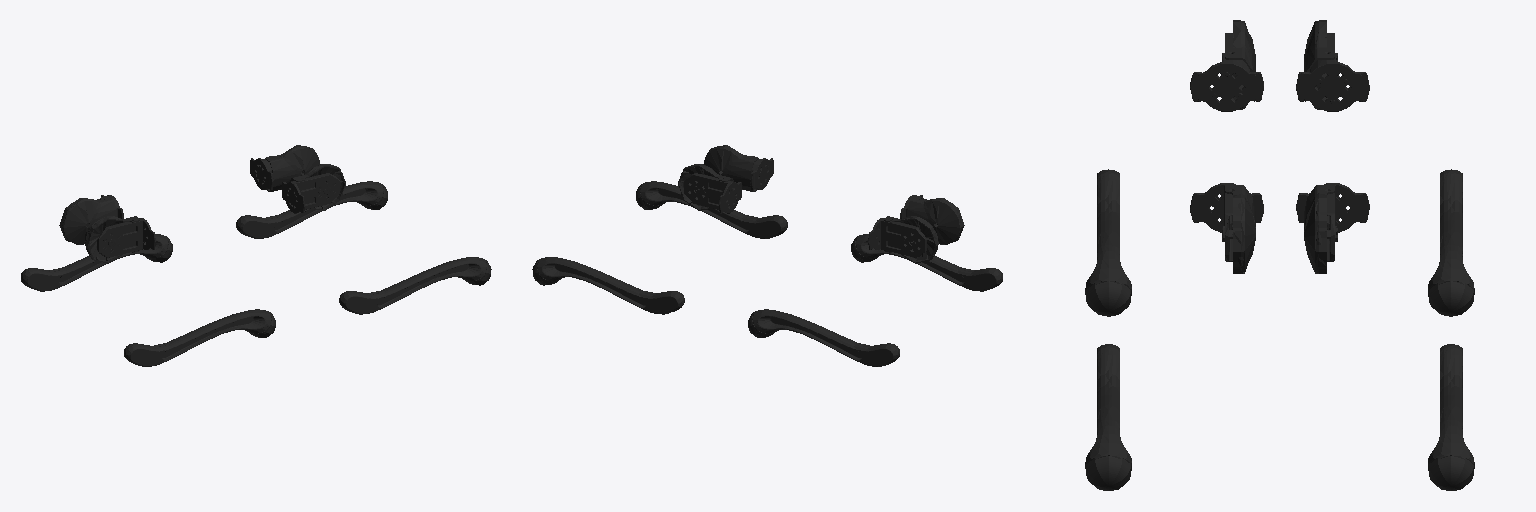
URDF robot description (cyberdog2):
<?xml version="1.0"?>
<robot name="cyberdog2">
  <link name="body">
    <visual>
      <origin xyz="0 0 0" rpy="0 0 0"/>
      <geometry>
        <mesh filename="../meshes/body.dae" scale="1 1 1"/>
      </geometry>
    </visual>
    <collision>
      <origin xyz="0 0 0" rpy="0 0 0"/>
      <geometry>
        <box size="0.236 0.190 0.109"/>
      </geometry>
    </collision>
    <inertial>
      <origin xyz="0.0273 -0.000242 0.0143" rpy="0 0 0"/>
      <mass value="4.03"/>
      <inertia ixx="0.0185" ixy="-0.000173" ixz="-0.0102" iyy="0.0517" iyz="-0.0000283" izz="0.0483"/>
    </inertial>
  </link>

  <joint name="head_joint" type="fixed">
    <parent link="body"/>
    <child link="head"/>
    <origin xyz="0 0 0" rpy="0 0 0"/>
  </joint>
  <link name="head">
    <collision>
      <origin xyz="0.256 0 0.120" rpy="0 0 0"/>
      <geometry>
        <box size="0.076 0.060 0.040"/>
      </geometry>
    </collision>
    <collision>
      <origin xyz="0.225 0 0.150" rpy="0 0 0"/>
      <geometry>
        <box size="0.020 0.080 0.100"/>
      </geometry>
    </collision>
    <inertial>
      <origin xyz="0 0 0" rpy="0 0 0"/>
      <mass value="0.001"/>
      <inertia ixx="0.0001" ixy="0" ixz="0" iyy="0.0001" iyz="0" izz="0.0001"/>
    </inertial>
  </link>

  <joint name="FR_abad_joint" type="revolute">
    <parent link="body"/>
    <child link="FR_abad"/>
    <origin xyz="0.164 -0.042 0" rpy="0 0 0"/>
    <axis xyz="1 0 0"/>
    <dynamics damping="0.01" friction="0.1"/>
    <limit effort="12.0001" velocity="30.9971" lower="-0.6806784082777885" upper="0.6806784082777885"/>
  </joint>
  <link name="FR_abad">
    <visual>
      <origin xyz="0 0 0" rpy="3.141592653589793 0 0"/>
      <geometry>
        <mesh filename="../meshes/abad.dae" scale="1 1 1"/>
      </geometry>
    </visual>
    <collision>
      <origin xyz="0 0 0" rpy="1.5707963267948966 0 0"/>
      <geometry>
        <cylinder length="0.035" radius="0.039"/>
      </geometry>
    </collision>
    <collision>
      <origin xyz="0 -0.059 0" rpy="1.5707963267948966 0 0"/>
      <geometry>
        <cylinder length="0.035" radius="0.039"/>
      </geometry>
    </collision>
    <inertial>
      <origin xyz="-0.00392 -0.015 -0.000306" rpy="0 0 0"/>
      <mass value="0.354"/>
      <inertia ixx="0.00019" ixy="0.000027" ixz="-0.000000344" iyy="0.000276" iyz="-0.00000195" izz="0.000233"/>
    </inertial>
  </link>
  <joint name="FR_hip_joint" type="revolute">
    <parent link="FR_abad"/>
    <child link="FR_hip"/>
    <origin xyz="0 -0.094 0" rpy="0 0 0"/>
    <axis xyz="0 1 0"/>
    <dynamics damping="0.01" friction="0.1"/>
    <limit effort="12.0001" velocity="30.9971" lower="-1.3264502315156905" upper="2.792526803190927"/>
  </joint>
  <link name="FR_hip">
    <visual>
      <origin xyz="0 0 0" rpy="0 0 0"/>
      <geometry>
        <mesh filename="../meshes/hip_mirror.dae" scale="1 1 1"/>
      </geometry>
    </visual>
    <collision>
      <origin xyz="0 0 -0.06" rpy="0 1.5707963267948966 0"/>
      <geometry>
        <box size="0.12 0.025 0.034"/>
      </geometry>
    </collision>
    <inertial>
      <origin xyz="-0.00212 0.0212 -0.0184" rpy="0 0 0"/>
      <mass value="0.482"/>
      <inertia ixx="0.00101" ixy="-0.0000223" ixz="-0.0000385" iyy="0.000983" iyz="-0.000199" izz="0.000347"/>
    </inertial>
  </link>
  <joint name="FR_knee_joint" type="revolute">
    <parent link="FR_hip"/>
    <child link="FR_knee"/>
    <origin xyz="0 0 -0.12" rpy="0 0 0"/>
    <axis xyz="0 1 0"/>
    <dynamics damping="0.01" friction="0.1"/>
    <limit effort="12.0001" velocity="30.9971" lower="-2.5307274153917776" upper="-0.5235987755982988"/>
  </joint>
  <link name="FR_knee">
    <visual>
      <origin xyz="0 0 0" rpy="0 0 0"/>
      <geometry>
        <mesh filename="../meshes/knee.dae" scale="1 1 1"/>
      </geometry>
    </visual>
    <collision>
      <origin xyz="0 0 -0.091705" rpy="0 3.141592653589793 0"/>
      <geometry>
        <box size="0.016 0.016 0.18341"/>
      </geometry>
    </collision>
    <collision>
      <origin xyz="-0.01 0 -0.007" rpy="0 3.141592653589793 0"/>
      <geometry>
        <sphere radius="0.016"/>
      </geometry>
    </collision>
    <inertial>
      <origin xyz="0.0006 -0.0000472 -0.0893" rpy="0 0 0"/>
      <mass value="0.116"/>
      <inertia ixx="0.000668" ixy="0.000000003" ixz="0.0000237" iyy="0.000674" iyz="0.000000603" izz="0.0000154"/>
    </inertial>
  </link>
  <joint name="FR_foot_fixed" type="fixed">
    <parent link="FR_knee"/>
    <child link="FR_foot"/>
    <origin xyz="0.0055 0 -0.17391" rpy="0 0 0"/>
  </joint>
  <link name="FR_foot">
    <visual>
      <origin xyz="0 0 0" rpy="0 0 0"/>
      <geometry>
        <sphere radius="0.009"/>
      </geometry>
    </visual>
    <collision>
      <origin xyz="0 0 0" rpy="0 0 0"/>
      <geometry>
        <sphere radius="0.019"/>
      </geometry>
    </collision>
    <inertial>
      <origin xyz="0 0 0" rpy="0 0 0"/>
      <mass value="0.001"/>
      <inertia ixx="0.000001" ixy="0" ixz="0" iyy="0.000001" iyz="0" izz="0.000001"/>
    </inertial>
  </link>

  <joint name="FL_abad_joint" type="revolute">
    <parent link="body"/>
    <child link="FL_abad"/>
    <origin xyz="0.164 0.042 0" rpy="0 0 0"/>
    <axis xyz="1 0 0"/>
    <dynamics damping="0.01" friction="0.1"/>
    <limit effort="12.0001" velocity="30.9971" lower="-0.6806784082777885" upper="0.6806784082777885"/>
  </joint>
  <link name="FL_abad">
    <visual>
      <origin xyz="0 0 0" rpy="0 0 0"/>
      <geometry>
        <mesh filename="../meshes/abad.dae" scale="1 1 1"/>
      </geometry>
    </visual>
    <collision>
      <origin xyz="0 0 0" rpy="1.5707963267948966 0 0"/>
      <geometry>
        <cylinder length="0.035" radius="0.039"/>
      </geometry>
    </collision>
    <collision>
      <origin xyz="0 0.059 0" rpy="1.5707963267948966 0 0"/>
      <geometry>
        <cylinder length="0.035" radius="0.039"/>
      </geometry>
    </collision>
    <inertial>
      <origin xyz="-0.00392 0.015 -0.000306" rpy="0 0 0"/>
      <mass value="0.354"/>
      <inertia ixx="0.00019" ixy="-0.000027" ixz="-0.000000344" iyy="0.000276" iyz="0.00000195" izz="0.000233"/>
    </inertial>
  </link>
  <joint name="FL_hip_joint" type="revolute">
    <parent link="FL_abad"/>
    <child link="FL_hip"/>
    <origin xyz="0 0.094 0" rpy="0 0 0"/>
    <axis xyz="0 1 0"/>
    <dynamics damping="0.01" friction="0.1"/>
    <limit effort="12.0001" velocity="30.9971" lower="-1.3264502315156905" upper="2.792526803190927"/>
  </joint>
  <link name="FL_hip">
    <visual>
      <origin xyz="0 0 0" rpy="0 0 0"/>
      <geometry>
        <mesh filename="../meshes/hip.dae" scale="1 1 1"/>
      </geometry>
    </visual>
    <collision>
      <origin xyz="0 0 -0.06" rpy="0 1.5707963267948966 0"/>
      <geometry>
        <box size="0.12 0.025 0.034"/>
      </geometry>
    </collision>
    <inertial>
      <origin xyz="-0.00212 -0.0212 -0.0184" rpy="0 0 0"/>
      <mass value="0.482"/>
      <inertia ixx="0.00101" ixy="0.0000223" ixz="-0.0000385" iyy="0.000983" iyz="0.000199" izz="0.000347"/>
    </inertial>
  </link>
  <joint name="FL_knee_joint" type="revolute">
    <parent link="FL_hip"/>
    <child link="FL_knee"/>
    <origin xyz="0 0 -0.12" rpy="0 0 0"/>
    <axis xyz="0 1 0"/>
    <dynamics damping="0.01" friction="0.1"/>
    <limit effort="12.0001" velocity="30.9971" lower="-2.5307274153917776" upper="-0.5235987755982988"/>
  </joint>
  <link name="FL_knee">
    <visual>
      <origin xyz="0 0 0" rpy="0 0 0"/>
      <geometry>
        <mesh filename="../meshes/knee.dae" scale="1 1 1"/>
      </geometry>
    </visual>
    <collision>
      <origin xyz="0 0 -0.091705" rpy="0 3.141592653589793 0"/>
      <geometry>
        <box size="0.016 0.016 0.18341"/>
      </geometry>
    </collision>
    <collision>
      <origin xyz="-0.01 0 -0.007" rpy="0 3.141592653589793 0"/>
      <geometry>
        <sphere radius="0.016"/>
      </geometry>
    </collision>
    <inertial>
      <origin xyz="0.0006 -0.0000472 -0.0893" rpy="0 0 0"/>
      <mass value="0.116"/>
      <inertia ixx="0.000668" ixy="0.000000003" ixz="0.0000237" iyy="0.000674" iyz="0.000000603" izz="0.0000154"/>
    </inertial>
  </link>
  <joint name="FL_foot_fixed" type="fixed">
    <parent link="FL_knee"/>
    <child link="FL_foot"/>
    <origin xyz="0.0055 0 -0.17391" rpy="0 0 0"/>
  </joint>
  <link name="FL_foot">
    <visual>
      <origin xyz="0 0 0" rpy="0 0 0"/>
      <geometry>
        <sphere radius="0.009"/>
      </geometry>
    </visual>
    <collision>
      <origin xyz="0 0 0" rpy="0 0 0"/>
      <geometry>
        <sphere radius="0.019"/>
      </geometry>
    </collision>
    <inertial>
      <origin xyz="0 0 0" rpy="0 0 0"/>
      <mass value="0.001"/>
      <inertia ixx="0.000001" ixy="0" ixz="0" iyy="0.000001" iyz="0" izz="0.000001"/>
    </inertial>
  </link>

  <joint name="RR_abad_joint" type="revolute">
    <parent link="body"/>
    <child link="RR_abad"/>
    <origin xyz="-0.164 -0.042 0" rpy="0 0 0"/>
    <axis xyz="1 0 0"/>
    <dynamics damping="0.01" friction="0.1"/>
    <limit effort="12.0001" velocity="30.9971" lower="-0.6806784082777885" upper="0.6806784082777885"/>
  </joint>
  <link name="RR_abad">
    <visual>
      <origin xyz="0 0 0" rpy="3.141592653589793 3.141592653589793 0"/>
      <geometry>
        <mesh filename="../meshes/abad.dae" scale="1 1 1"/>
      </geometry>
    </visual>
    <collision>
      <origin xyz="0 0 0" rpy="1.5707963267948966 0 0"/>
      <geometry>
        <cylinder length="0.035" radius="0.039"/>
      </geometry>
    </collision>
    <collision>
      <origin xyz="0 -0.059 0" rpy="1.5707963267948966 0 0"/>
      <geometry>
        <cylinder length="0.035" radius="0.039"/>
      </geometry>
    </collision>
    <inertial>
      <origin xyz="0.00392 -0.015 -0.000306" rpy="0 0 0"/>
      <mass value="0.354"/>
      <inertia ixx="0.00019" ixy="-0.000027" ixz="0.000000344" iyy="0.000276" iyz="-0.00000195" izz="0.000233"/>
    </inertial>
  </link>
  <joint name="RR_hip_joint" type="revolute">
    <parent link="RR_abad"/>
    <child link="RR_hip"/>
    <origin xyz="0 -0.094 0" rpy="0 0 0"/>
    <axis xyz="0 1 0"/>
    <dynamics damping="0.01" friction="0.1"/>
    <limit effort="12.0001" velocity="30.9971" lower="-0.9773843811168246" upper="3.141592653589793"/>
  </joint>
  <link name="RR_hip">
    <visual>
      <origin xyz="0 0 0" rpy="0 0 0"/>
      <geometry>
        <mesh filename="../meshes/hip_mirror.dae" scale="1 1 1"/>
      </geometry>
    </visual>
    <collision>
      <origin xyz="0 0 -0.06" rpy="0 1.5707963267948966 0"/>
      <geometry>
        <box size="0.12 0.025 0.034"/>
      </geometry>
    </collision>
    <inertial>
      <origin xyz="-0.00212 0.0212 -0.0184" rpy="0 0 0"/>
      <mass value="0.482"/>
      <inertia ixx="0.00101" ixy="-0.0000223" ixz="-0.0000385" iyy="0.000983" iyz="-0.000199" izz="0.000347"/>
    </inertial>
  </link>
  <joint name="RR_knee_joint" type="revolute">
    <parent link="RR_hip"/>
    <child link="RR_knee"/>
    <origin xyz="0 0 -0.12" rpy="0 0 0"/>
    <axis xyz="0 1 0"/>
    <dynamics damping="0.01" friction="0.1"/>
    <limit effort="12.0001" velocity="30.9971" lower="-2.5307274153917776" upper="-0.5235987755982988"/>
  </joint>
  <link name="RR_knee">
    <visual>
      <origin xyz="0 0 0" rpy="0 0 0"/>
      <geometry>
        <mesh filename="../meshes/knee.dae" scale="1 1 1"/>
      </geometry>
    </visual>
    <collision>
      <origin xyz="0 0 -0.091705" rpy="0 3.141592653589793 0"/>
      <geometry>
        <box size="0.016 0.016 0.18341"/>
      </geometry>
    </collision>
    <collision>
      <origin xyz="-0.01 0 -0.007" rpy="0 3.141592653589793 0"/>
      <geometry>
        <sphere radius="0.016"/>
      </geometry>
    </collision>
    <inertial>
      <origin xyz="0.0006 -0.0000472 -0.0893" rpy="0 0 0"/>
      <mass value="0.116"/>
      <inertia ixx="0.000668" ixy="0.000000003" ixz="0.0000237" iyy="0.000674" iyz="0.000000603" izz="0.0000154"/>
    </inertial>
  </link>
  <joint name="RR_foot_fixed" type="fixed">
    <parent link="RR_knee"/>
    <child link="RR_foot"/>
    <origin xyz="0.0055 0 -0.17391" rpy="0 0 0"/>
  </joint>
  <link name="RR_foot">
    <visual>
      <origin xyz="0 0 0" rpy="0 0 0"/>
      <geometry>
        <sphere radius="0.009"/>
      </geometry>
    </visual>
    <collision>
      <origin xyz="0 0 0" rpy="0 0 0"/>
      <geometry>
        <sphere radius="0.019"/>
      </geometry>
    </collision>
    <inertial>
      <origin xyz="0 0 0" rpy="0 0 0"/>
      <mass value="0.001"/>
      <inertia ixx="0.000001" ixy="0" ixz="0" iyy="0.000001" iyz="0" izz="0.000001"/>
    </inertial>
  </link>

  <joint name="RL_abad_joint" type="revolute">
    <parent link="body"/>
    <child link="RL_abad"/>
    <origin xyz="-0.164 0.042 0" rpy="0 0 0"/>
    <axis xyz="1 0 0"/>
    <dynamics damping="0.01" friction="0.1"/>
    <limit effort="12.0001" velocity="30.9971" lower="-0.6806784082777885" upper="0.6806784082777885"/>
  </joint>
  <link name="RL_abad">
    <visual>
      <origin xyz="0 0 0" rpy="0 3.141592653589793 0"/>
      <geometry>
        <mesh filename="../meshes/abad.dae" scale="1 1 1"/>
      </geometry>
    </visual>
    <collision>
      <origin xyz="0 0 0" rpy="1.5707963267948966 0 0"/>
      <geometry>
        <cylinder length="0.035" radius="0.039"/>
      </geometry>
    </collision>
    <collision>
      <origin xyz="0 0.059 0" rpy="1.5707963267948966 0 0"/>
      <geometry>
        <cylinder length="0.035" radius="0.039"/>
      </geometry>
    </collision>
    <inertial>
      <origin xyz="0.00392 0.015 -0.000306" rpy="0 0 0"/>
      <mass value="0.354"/>
      <inertia ixx="0.00019" ixy="0.000027" ixz="0.000000344" iyy="0.000276" iyz="0.00000195" izz="0.000233"/>
    </inertial>
  </link>
  <joint name="RL_hip_joint" type="revolute">
    <parent link="RL_abad"/>
    <child link="RL_hip"/>
    <origin xyz="0 0.094 0" rpy="0 0 0"/>
    <axis xyz="0 1 0"/>
    <dynamics damping="0.01" friction="0.1"/>
    <limit effort="12.0001" velocity="30.9971" lower="-0.9773843811168246" upper="3.141592653589793"/>
  </joint>
  <link name="RL_hip">
    <visual>
      <origin xyz="0 0 0" rpy="0 0 0"/>
      <geometry>
        <mesh filename="../meshes/hip.dae" scale="1 1 1"/>
      </geometry>
    </visual>
    <collision>
      <origin xyz="0 0 -0.06" rpy="0 1.5707963267948966 0"/>
      <geometry>
        <box size="0.12 0.025 0.034"/>
      </geometry>
    </collision>
    <inertial>
      <origin xyz="-0.00212 -0.0212 -0.0184" rpy="0 0 0"/>
      <mass value="0.482"/>
      <inertia ixx="0.00101" ixy="0.0000223" ixz="-0.0000385" iyy="0.000983" iyz="0.000199" izz="0.000347"/>
    </inertial>
  </link>
  <joint name="RL_knee_joint" type="revolute">
    <parent link="RL_hip"/>
    <child link="RL_knee"/>
    <origin xyz="0 0 -0.12" rpy="0 0 0"/>
    <axis xyz="0 1 0"/>
    <dynamics damping="0.01" friction="0.1"/>
    <limit effort="12.0001" velocity="30.9971" lower="-2.5307274153917776" upper="-0.5235987755982988"/>
  </joint>
  <link name="RL_knee">
    <visual>
      <origin xyz="0 0 0" rpy="0 0 0"/>
      <geometry>
        <mesh filename="../meshes/knee.dae" scale="1 1 1"/>
      </geometry>
    </visual>
    <collision>
      <origin xyz="0 0 -0.091705" rpy="0 3.141592653589793 0"/>
      <geometry>
        <box size="0.016 0.016 0.18341"/>
      </geometry>
    </collision>
    <collision>
      <origin xyz="-0.01 0 -0.007" rpy="0 3.141592653589793 0"/>
      <geometry>
        <sphere radius="0.016"/>
      </geometry>
    </collision>
    <inertial>
      <origin xyz="0.0006 -0.0000472 -0.0893" rpy="0 0 0"/>
      <mass value="0.116"/>
      <inertia ixx="0.000668" ixy="0.000000003" ixz="0.0000237" iyy="0.000674" iyz="0.000000603" izz="0.0000154"/>
    </inertial>
  </link>
  <joint name="RL_foot_fixed" type="fixed">
    <parent link="RL_knee"/>
    <child link="RL_foot"/>
    <origin xyz="0.0055 0 -0.17391" rpy="0 0 0"/>
  </joint>
  <link name="RL_foot">
    <visual>
      <origin xyz="0 0 0" rpy="0 0 0"/>
      <geometry>
        <sphere radius="0.009"/>
      </geometry>
    </visual>
    <collision>
      <origin xyz="0 0 0" rpy="0 0 0"/>
      <geometry>
        <sphere radius="0.019"/>
      </geometry>
    </collision>
    <inertial>
      <origin xyz="0 0 0" rpy="0 0 0"/>
      <mass value="0.001"/>
      <inertia ixx="0.000001" ixy="0" ixz="0" iyy="0.000001" iyz="0" izz="0.000001"/>
    </inertial>
  </link>
</robot>

--- Render facts (derived) ---
The picture shows the robot from 3 angles, left to right: view 1: azimuth 30°, elevation 25°; view 2: azimuth 150°, elevation 25°; view 3: azimuth 270°, elevation 25°; orthographic projection.
Robot: cyberdog2 — 18 links, 17 joints (12 revolute, 5 fixed); root link body; default pose: joints at zero except 4 at the middle of their limits (FR_knee_joint = -1.53, FL_knee_joint = -1.53, RR_knee_joint = -1.53, RL_knee_joint = -1.53).
Links seen in each view (by area): view 1: RR_knee, FR_knee, RR_abad, FL_knee, FR_abad, RL_knee, FL_abad, RL_abad; view 2: RL_knee, FL_knee, RL_abad, FR_knee, FL_abad, RR_knee, FR_abad, RR_abad; view 3: FR_knee, FL_knee, RL_knee, RR_knee, RL_abad, RR_abad, FL_abad, FR_abad.
Boxes of the visible links, bbox=[...] form: RR_knee: bbox=[124, 309, 275, 366]; FR_knee: bbox=[339, 257, 491, 314]; RR_abad: bbox=[85, 216, 155, 263]; FL_knee: bbox=[236, 181, 387, 238]; FR_abad: bbox=[282, 164, 345, 213]; RL_knee: bbox=[21, 234, 172, 291]; FL_abad: bbox=[250, 145, 319, 191]; RL_abad: bbox=[59, 195, 123, 244]; RL_knee: bbox=[748, 309, 899, 366]; FL_knee: bbox=[532, 257, 684, 314]; RL_abad: bbox=[868, 216, 938, 263]; FR_knee: bbox=[636, 181, 787, 238]; FL_abad: bbox=[678, 164, 741, 213]; RR_knee: bbox=[851, 234, 1002, 291]; FR_abad: bbox=[704, 145, 773, 191]; RR_abad: bbox=[900, 195, 964, 244]; FR_knee: bbox=[1085, 344, 1131, 490]; FL_knee: bbox=[1428, 344, 1474, 490]; RL_knee: bbox=[1428, 169, 1474, 316]; RR_knee: bbox=[1085, 169, 1131, 316]; RL_abad: bbox=[1296, 20, 1369, 111]; RR_abad: bbox=[1190, 20, 1263, 111]; FL_abad: bbox=[1296, 183, 1369, 273]; FR_abad: bbox=[1190, 183, 1263, 273].
Bounding box of the posed robot: 0.5552 × 0.3097 × 0.1765 m (x, y, z).
Meshes: 5 distinct files referenced, 8 mesh visuals loaded (2 Collada DAE); not drawn: 5 (reference not matched to a file when rendering).
